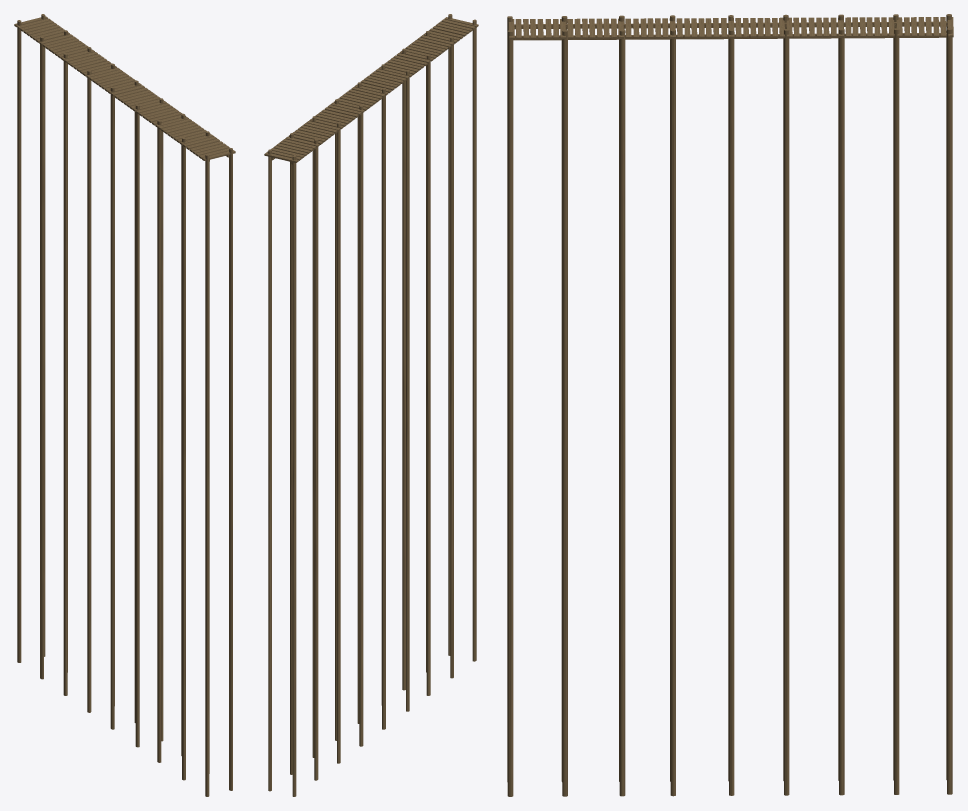
The model's file is dock3.glb.
3 renders of one model, left to right at view 1: azimuth 30°, elevation 25°; view 2: azimuth 150°, elevation 25°; view 3: azimuth 270°, elevation 25°, orthographic. The views are drawn at different scales.
Parts seen in each view (by area): view 1: Cylinder.002, Cylinder.010, Cylinder.009, Cylinder.018, Cylinder.014, Cylinder.005, Cylinder.013, Cylinder.003, Cylinder.017, Cylinder.006, Cylinder.008, Cylinder.011 (+5 smaller); view 2: Cylinder.018, Cylinder.017, Cylinder.005, Cylinder.002, Cylinder.013, Cylinder.019, Cylinder.014, Cylinder.006, Cylinder.009, Cylinder.010, Cylinder.004, Cylinder.016 (+6 smaller); view 3: Cylinder.004, Cylinder.003, Cylinder.016, Cylinder.007, Cylinder.019, Cylinder.012, Cylinder.015, Cylinder.008, Cylinder.011, Cylinder.006, Cube.005, Cylinder.002 (+8 smaller).
Part boxes in pixels (<box>): Cylinder.002: <box>205,154,209,796</box>; Cylinder.010: <box>110,86,114,729</box>; Cylinder.009: <box>135,104,139,747</box>; Cylinder.018: <box>17,20,21,662</box>; Cylinder.014: <box>63,53,67,695</box>; Cylinder.005: <box>157,120,161,762</box>; Cylinder.013: <box>87,70,91,712</box>; Cylinder.003: <box>229,148,232,790</box>; Cylinder.017: <box>40,36,43,679</box>; Cylinder.006: <box>182,137,185,780</box>; Cylinder.008: <box>159,98,163,741</box>; Cylinder.011: <box>134,80,138,722</box>; Cylinder.018: <box>292,155,296,796</box>; Cylinder.017: <box>314,138,318,780</box>; Cylinder.005: <box>426,54,430,695</box>; Cylinder.002: <box>472,19,476,661</box>; Cylinder.013: <box>359,104,363,746</box>; Cylinder.019: <box>268,149,271,791</box>; Cylinder.014: <box>337,121,340,763</box>; Cylinder.006: <box>450,36,453,678</box>; Cylinder.009: <box>406,70,409,711</box>; Cylinder.010: <box>382,88,385,729</box>; Cylinder.004: <box>402,48,406,690</box>; Cylinder.016: <box>290,133,293,774</box>; Cylinder.004: <box>619,29,625,796</box>; Cylinder.003: <box>507,30,513,796</box>; Cylinder.016: <box>894,28,899,794</box>; Cylinder.007: <box>562,30,567,796</box>; Cylinder.019: <box>947,28,952,794</box>; Cylinder.012: <box>784,29,789,795</box>; Cylinder.015: <box>839,28,844,795</box>; Cylinder.008: <box>670,29,675,796</box>; Cylinder.011: <box>729,29,734,795</box>; Cylinder.006: <box>561,16,567,781</box>; Cube.005: <box>513,33,946,40</box>; Cylinder.002: <box>507,16,512,781</box>.
Size of the model in its own units: 1.12 by 19.27 by 10.2.
Materials: 81 (81 with a texture image).
